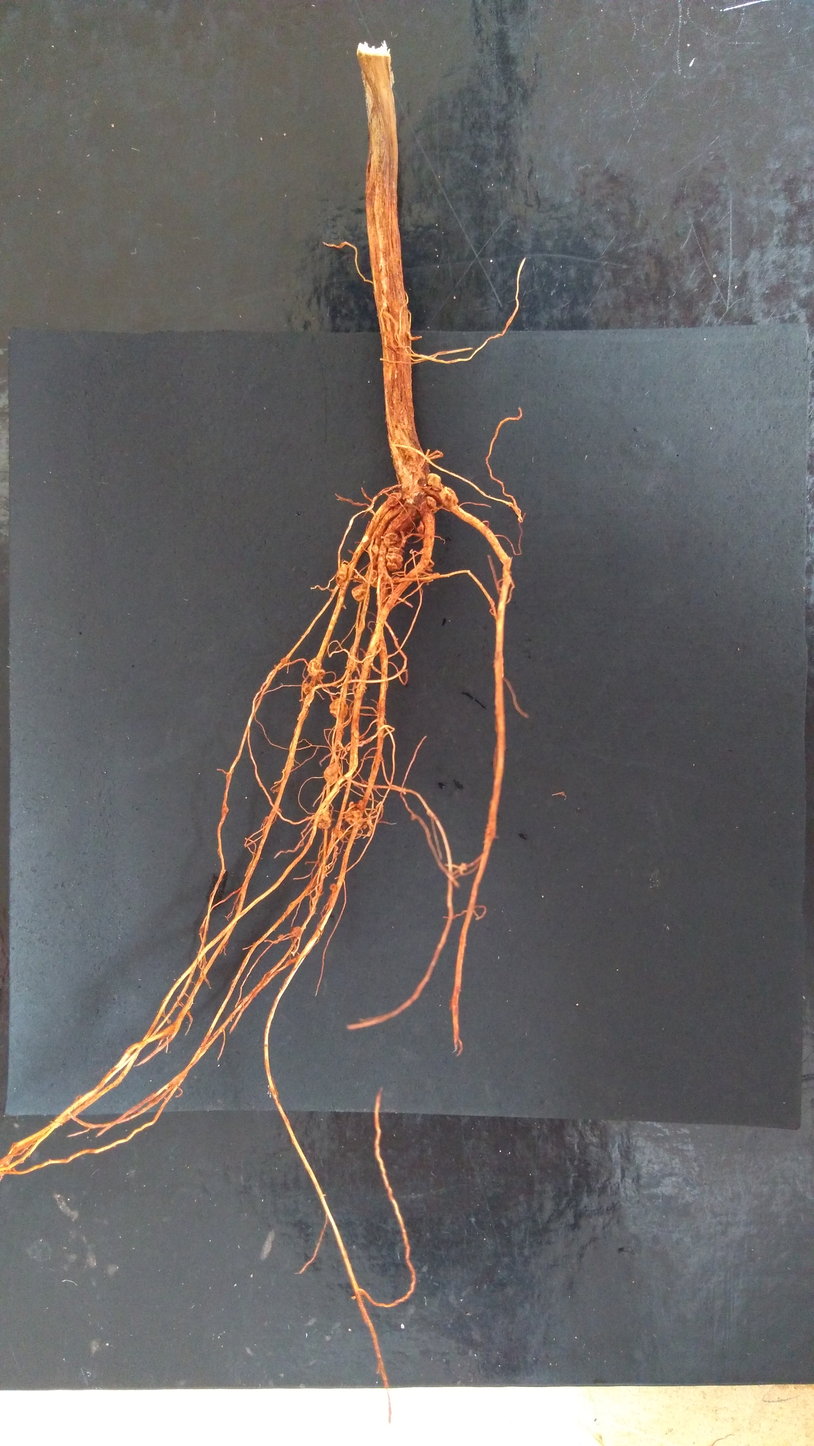nodule: (423, 486, 444, 513), (385, 547, 403, 572), (345, 803, 363, 828), (322, 762, 341, 784), (439, 486, 458, 507), (329, 698, 348, 718), (351, 583, 369, 602), (383, 533, 404, 549), (367, 562, 379, 588), (427, 473, 444, 491), (306, 658, 321, 677), (367, 544, 379, 566), (337, 563, 348, 586), (386, 492, 402, 507), (417, 520, 425, 537), (315, 669, 326, 681), (302, 682, 312, 695), (291, 926, 302, 937), (356, 799, 365, 810), (336, 830, 345, 839), (329, 883, 338, 892), (280, 657, 288, 664), (222, 806, 228, 813), (432, 572, 440, 577), (277, 807, 282, 814), (393, 576, 400, 581), (310, 680, 315, 686), (359, 735, 364, 741), (348, 801, 353, 807), (277, 934, 283, 939), (264, 816, 268, 822), (363, 824, 367, 830)
